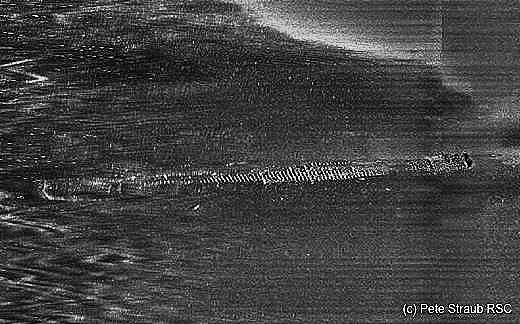ship: (33, 146, 477, 199)
